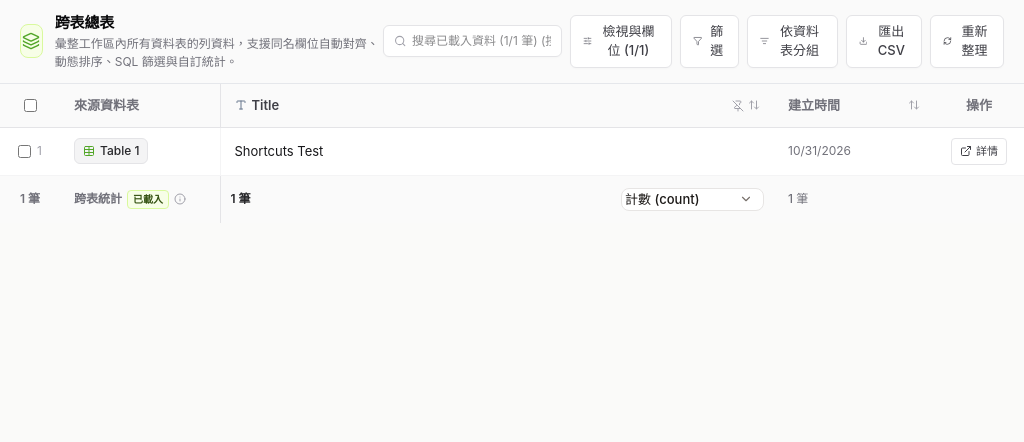
MasterGridView UI Component › handles keyboard shortcut / to focus search input and Escape to close panels
Expected: the text "Shortcuts Test" is shown, [234,142,323,161]
Note: Press "/" key
Press /
Note: Open Columns panel
Click the button with test id "toggle-columns-btn". click: (621, 41)
box: [570,15,672,68]
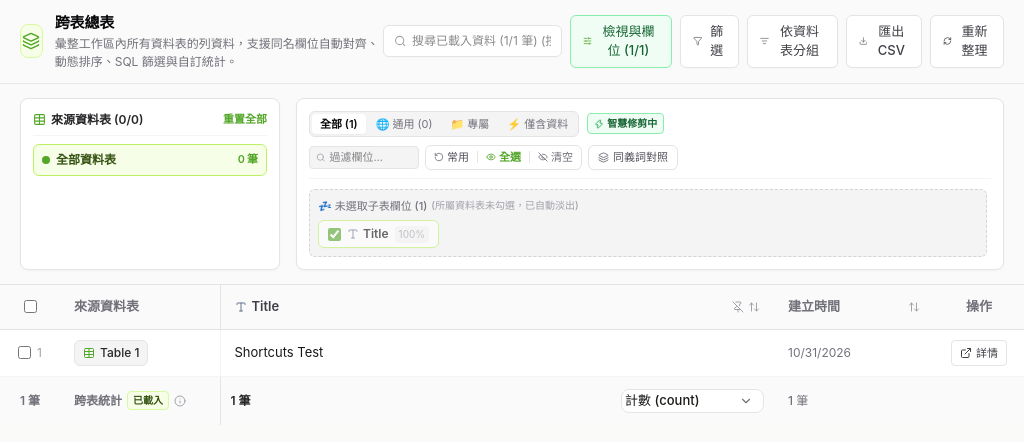
Expected: the button with test id "tab-fields-all" is shown, [312,114,366,134]
Note: Press "Escape" key to close panel
Press Escape
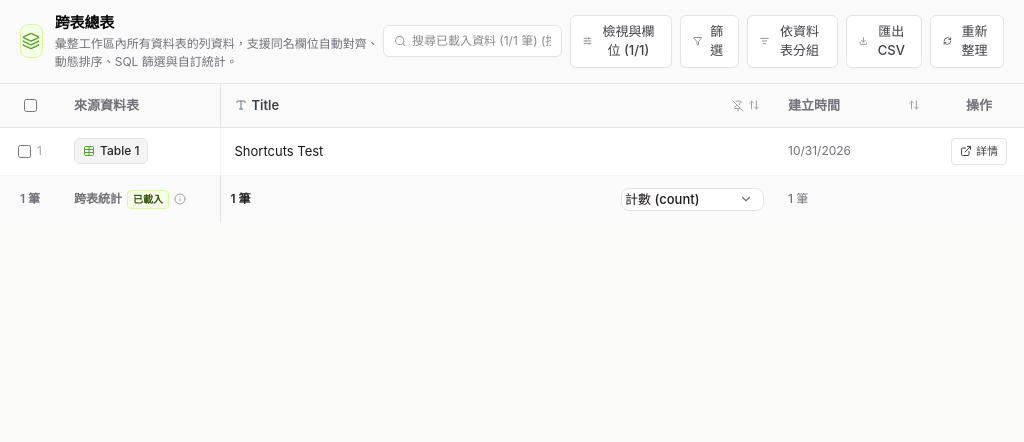
Expected: the button with test id "tab-fields-all" is gone
